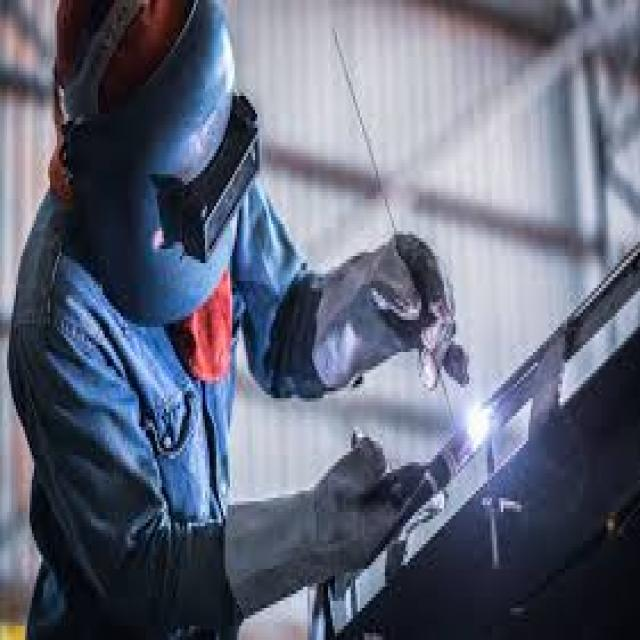welding: (465, 404, 491, 444)
